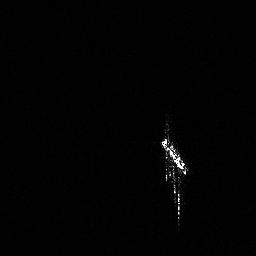ship: (158, 134, 195, 183)
